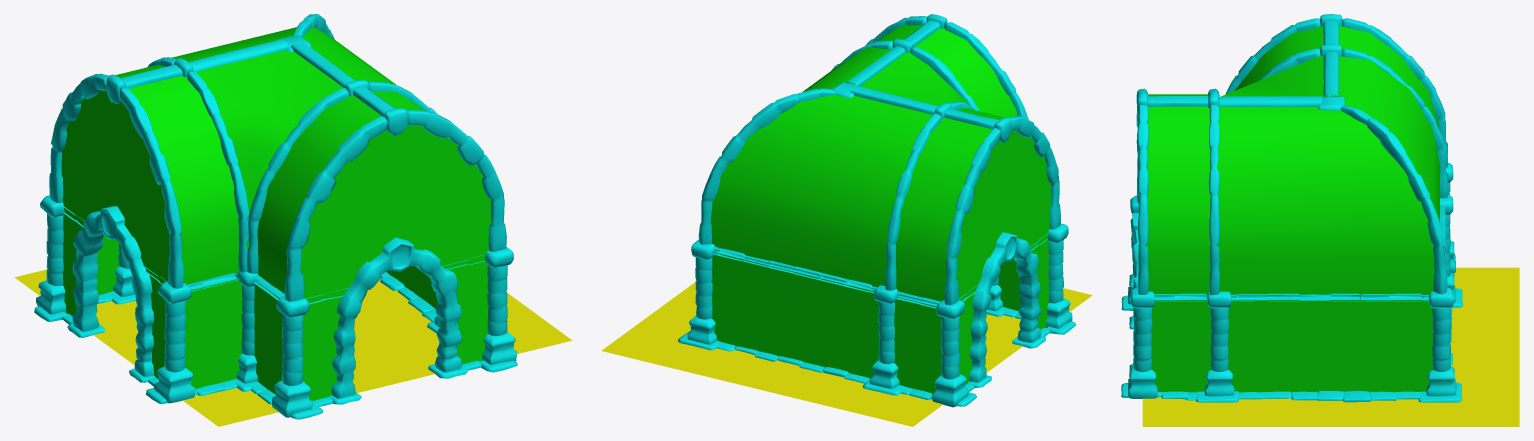
Rendered from Hallway_Corner_1.fbx.
The picture shows the model from 3 angles, left to right: view 1: azimuth 30°, elevation 25°; view 2: azimuth 150°, elevation 25°; view 3: azimuth 270°, elevation 25°; orthographic projection. The views are drawn at different scales.
Parts seen in each view (by area): view 1: Room_Corner_1:WallsCorner, Room_Corner_1:CornerFrame, Room_Corner_1:CornerFloor; view 2: Room_Corner_1:WallsCorner, Room_Corner_1:CornerFrame, Room_Corner_1:CornerFloor; view 3: Room_Corner_1:WallsCorner, Room_Corner_1:CornerFrame, Room_Corner_1:CornerFloor.
Part boxes in pixels (left/top/right/bottom): Room_Corner_1:WallsCorner: left=61, top=26, right=491, bottom=400; Room_Corner_1:CornerFrame: left=34, top=14, right=517, bottom=419; Room_Corner_1:CornerFloor: left=14, top=269, right=572, bottom=426; Room_Corner_1:WallsCorner: left=710, top=24, right=1051, bottom=393; Room_Corner_1:CornerFrame: left=678, top=14, right=1075, bottom=407; Room_Corner_1:CornerFloor: left=601, top=282, right=1092, bottom=426; Room_Corner_1:WallsCorner: left=1147, top=26, right=1439, bottom=392; Room_Corner_1:CornerFrame: left=1121, top=14, right=1462, bottom=402; Room_Corner_1:CornerFloor: left=1142, top=267, right=1519, bottom=426.
Size of the model in its own units: 1269 by 1269 by 895.
